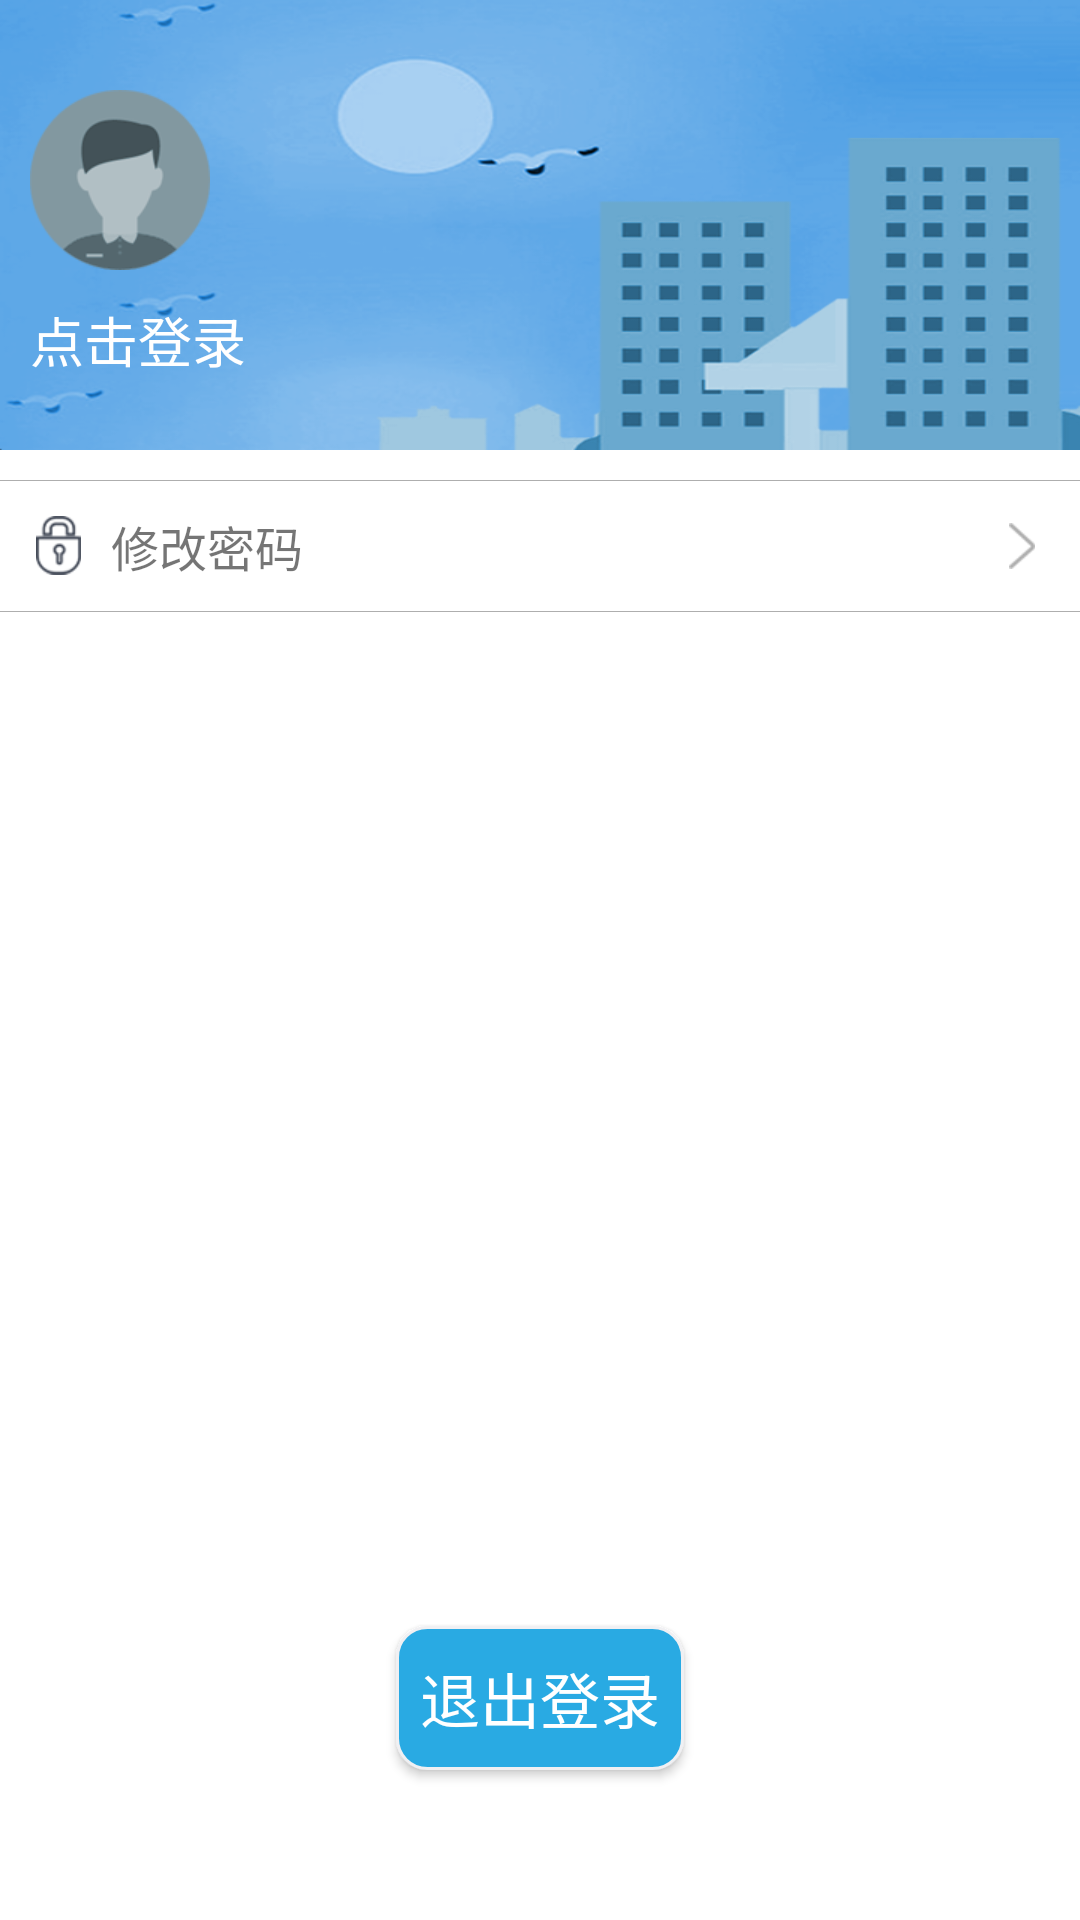

Icon bounding boxes for this 1080px x 1920px phone screenshot, format BBox(x1, y1, x2, y2):
jingru: BBox(1009, 523, 1035, 569)
touxiang: BBox(30, 90, 210, 270)
